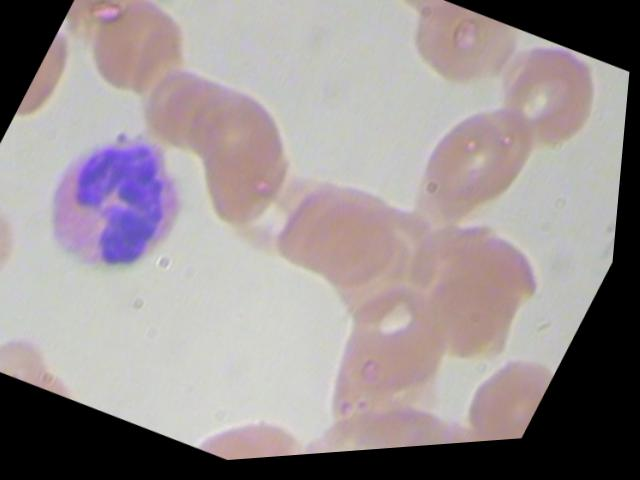Red Blood Cells: (390, 79, 570, 258), (464, 30, 626, 180), (385, 0, 539, 122), (279, 180, 417, 316), (258, 166, 396, 301), (217, 150, 355, 285), (71, 0, 209, 114), (446, 343, 567, 451), (0, 196, 43, 308)
White Blood Cells: (0, 97, 229, 317)
